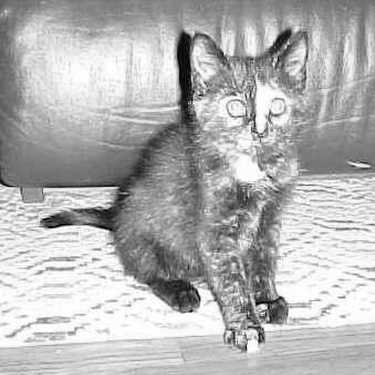cat: (36, 26, 307, 354)
